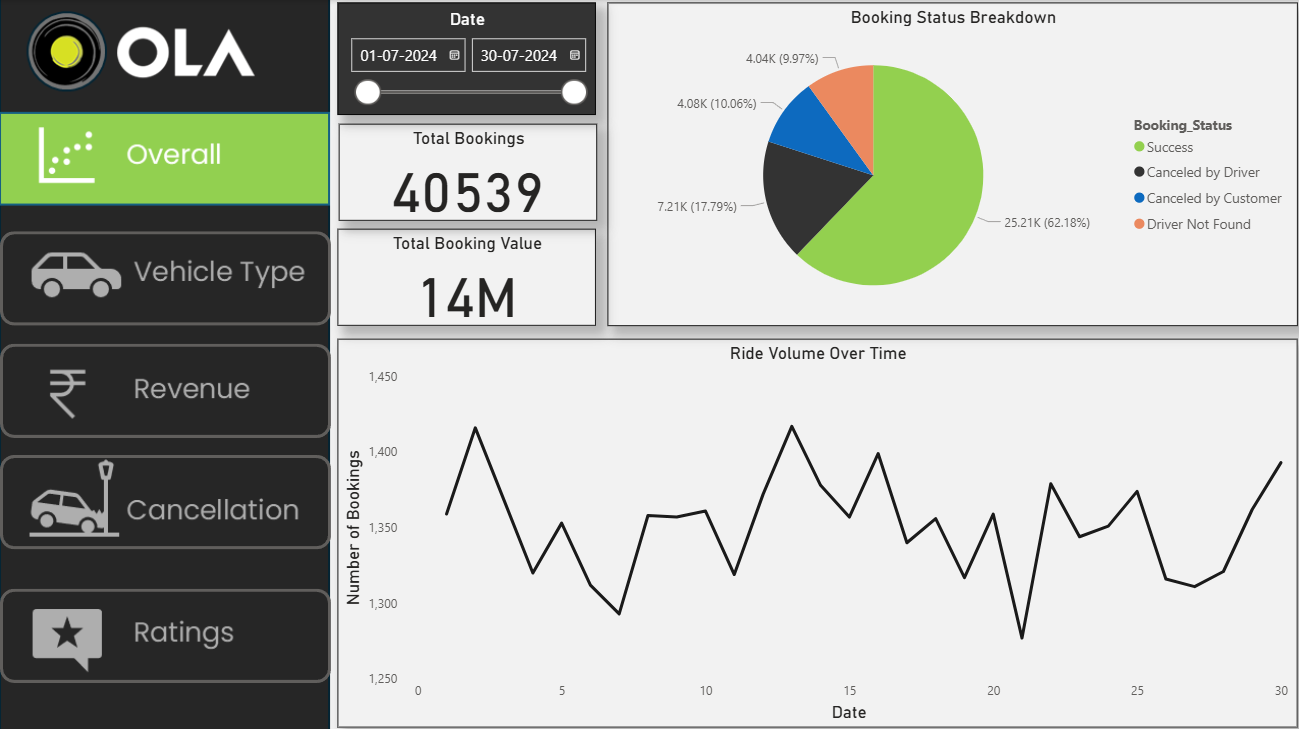

The page's visual inventory and layout, read from the dashboard file:
{"tool":"powerbi","page":{"name":"Overall","canvas":[1280,720],"ordinal":0},"visuals":[{"type":"actionButton","box":[0,227.5,325,92.5],"z":0},{"type":"actionButton","box":[0,337.5,325,92.5],"z":1000},{"type":"actionButton","box":[0,446.2,325,92.5],"z":2000},{"type":"actionButton","box":[0,577.5,325,92.5],"z":3000},{"type":"lineChart","title":"Ride Volume Over Time","fields":{"Category":["Bookings.Date.Variation.Date Hierarchy.Day"],"Y":["CountNonNull(Bookings.Booking_ID)"]},"box":[331.2,332.5,942.5,381.2],"z":4000},{"type":"pieChart","title":"Booking Status Breakdown","fields":{"Category":["Bookings.Booking_Status"],"Y":["CountNonNull(Bookings.Booking_Status)"]},"box":[596.2,2.5,677.5,317.5],"z":5000},{"type":"slicer","title":"Date","fields":{"Values":["Bookings.Date"]},"box":[331.2,2.5,253.8,110],"z":6000},{"type":"card","title":"Total Bookings","fields":{"Values":["Count(Bookings.Booking_ID)"]},"box":[332.5,121.2,253.8,95],"z":7000},{"type":"card","title":"Total Booking Value","fields":{"Values":["Sum(Bookings.Booking_Value)"]},"box":[331.2,225,253.8,95],"z":8000}]}

Visuals, with their boxes in screenshot pixels (x1, y1, x2, y2), scaled from the page's 1280x720 canvas onto the 1299x729 screenshot:
actionButton: box=[0, 230, 330, 324]
actionButton: box=[0, 342, 330, 435]
actionButton: box=[0, 452, 330, 545]
actionButton: box=[0, 585, 330, 678]
"Ride Volume Over Time" lineChart: box=[336, 337, 1293, 723]
"Booking Status Breakdown" pieChart: box=[605, 3, 1293, 324]
"Date" slicer: box=[336, 3, 594, 114]
"Total Bookings" card: box=[337, 123, 595, 219]
"Total Booking Value" card: box=[336, 228, 594, 324]
